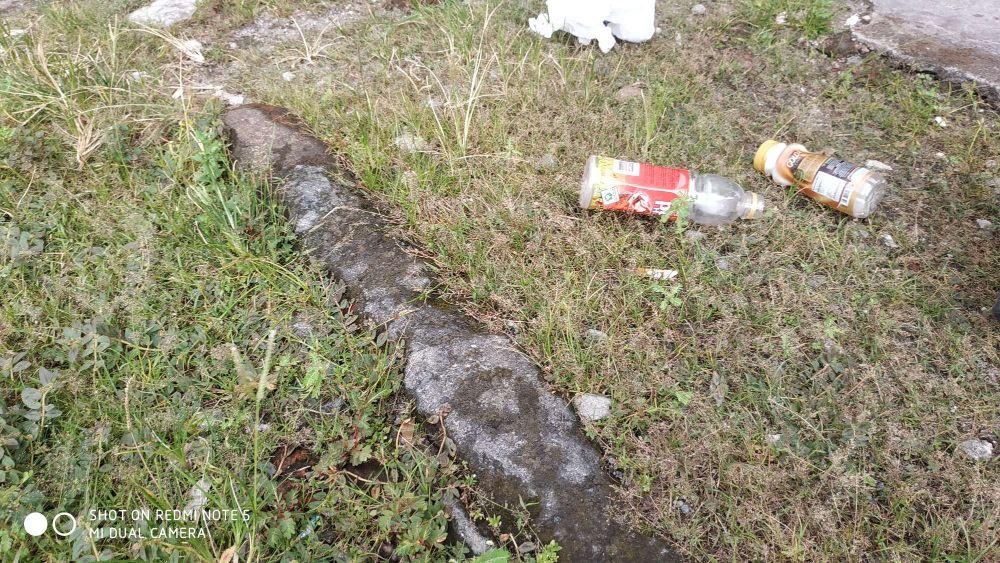botol: (571, 133, 774, 249), (754, 121, 892, 221)
